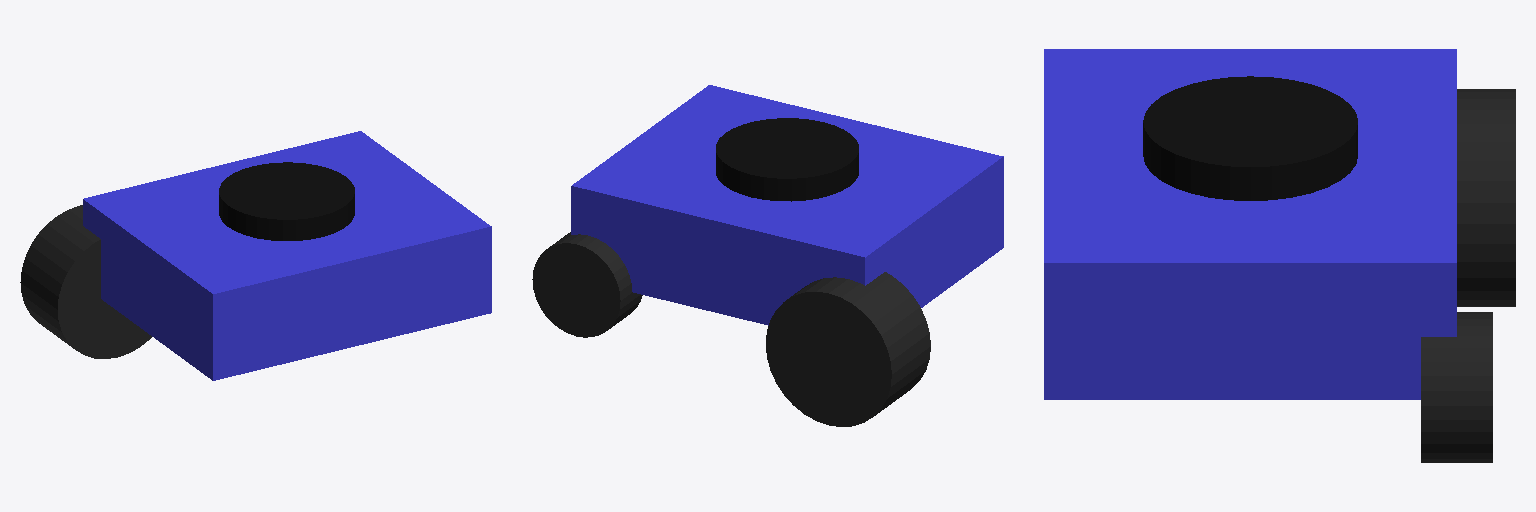
robot.urdf — evolved_robot:
<?xml version="1.0"?>
<robot name="evolved_robot">
  <material name="metal">
    <color rgba="0.7 0.7 0.7 1.0"/>
  </material>
  <material name="plastic">
    <color rgba="0.3 0.3 0.9 1.0"/>
  </material>
  <material name="rubber">
    <color rgba="0.1 0.1 0.1 1.0"/>
  </material>
  <material name="red">
    <color rgba="1.0 0.0 0.0 1.0"/>
  </material>
  <material name="wheel_material">
    <color rgba="0.2 0.2 0.2 1.0"/>
  </material>
  <link name="base_link">
    <visual>
      <geometry><box size="0.34411303922620823 0.27981552353627326 0.10256335374591175"/></geometry>
      <material name="plastic"/>
    </visual>
    <collision>
      <geometry><box size="0.34411303922620823 0.27981552353627326 0.10256335374591175"/></geometry>
    </collision>
    <inertial>
      <mass value="5.0"/>
      <inertia ixx="0.07401330728623977" ixy="0" ixz="0" 
               iyy="0.10744418774758913" iyz="0" 
               izz="0.16392542581448052"/>
    </inertial>
  </link>
  <link name="link1">
    <visual>
      <geometry>
        <cylinder radius="0.051554381537950625" length="0.04828264802290038"/>
      </geometry>
      <material name="wheel_material"/>
    </visual>
    <collision>
      <geometry>
        <cylinder radius="0.051554381537950625" length="0.04828264802290038"/>
      </geometry>
    </collision>
    <inertial>
      <mass value="1.0"/>
      <inertia ixx="0.00085873140561542" ixy="0" ixz="0" 
               iyy="0.00085873140561542" iyz="0" 
               izz="0.0013289271278802922"/>
    </inertial>
  </link>
  <joint name="joint1" type="continuous">
    <parent link="base_link"/>
    <child link="link1"/>
    <origin xyz="0.15205651961310412 0.13990776176813663 -0.05128167687295587" rpy="1.5708 0 0"/>
    <axis xyz="0 0 1"/>
    <dynamics damping="0.6661406666244551" friction="0.1"/>
  </joint>
  <link name="link2">
    <visual>
      <geometry><cylinder radius="0.0729829788216498" length="0.050752840492383"/></geometry>
      <material name="rubber"/>
    </visual>
    <collision>
      <geometry><cylinder radius="0.0729829788216498" length="0.050752840492383"/></geometry>
    </collision>
    <inertial>
      <mass value="0.5"/>
      <inertia ixx="0.0015462830342574516" ixy="0" ixz="0" 
               iyy="0.0015462830342574516" iyz="0" 
               izz="0.002663257598840691"/>
    </inertial>
  </link>
  <joint name="joint2" type="revolute">
    <parent link="base_link"/>
    <child link="link2"/>
    <origin xyz="0 0 0.05128167687295587" rpy="0 0 0"/>
    <axis xyz="0.0 0.6867904345195073 -0.726855487048496"/>
    <dynamics damping="0.46869221797893834" friction="0.1"/>
    <limit lower="-1.3571484268149911" upper="1.253268333753351" effort="100" velocity="100"/>
  </joint>
  <link name="link3">
    <visual>
      <geometry>
        <cylinder radius="0.07388801847784493" length="0.07935625141699179"/>
      </geometry>
      <material name="wheel_material"/>
    </visual>
    <collision>
      <geometry>
        <cylinder radius="0.07388801847784493" length="0.07935625141699179"/>
      </geometry>
    </collision>
    <inertial>
      <mass value="1.0"/>
      <inertia ixx="0.0018896443718919896" ixy="0" ixz="0" 
               iyy="0.0018896443718919896" iyz="0" 
               izz="0.002729719637291177"/>
    </inertial>
  </link>
  <joint name="joint3" type="continuous">
    <parent link="base_link"/>
    <child link="link3"/>
    <origin xyz="-0.15205651961310412 0.13990776176813663 -0.05128167687295587" rpy="1.5708 0 0"/>
    <axis xyz="0 0 1"/>
    <dynamics damping="0.784606199382442" friction="0.1"/>
  </joint>
</robot>

--- What the picture shows (computed from the rendered views, not written in the file) ---
The picture shows the robot from 3 angles, left to right: view 1: azimuth 30°, elevation 25°; view 2: azimuth 150°, elevation 25°; view 3: azimuth 270°, elevation 25°; orthographic projection.
Robot: evolved_robot — 4 links, 3 joints (1 revolute, 2 continuous); root link base_link; default pose: every joint at zero.
Visible links, largest first — view 1: base_link, link3, link2; view 2: base_link, link3, link2, link1; view 3: base_link, link2, link3, link1.
Boxes of the visible links, left/top/right/bottom form: base_link: left=83, top=131, right=491, bottom=380; link3: left=20, top=205, right=151, bottom=358; link2: left=219, top=162, right=354, bottom=240; base_link: left=571, top=85, right=1003, bottom=325; link3: left=766, top=272, right=930, bottom=426; link2: left=716, top=118, right=858, bottom=201; link1: left=532, top=232, right=642, bottom=337; base_link: left=1044, top=49, right=1456, bottom=399; link2: left=1143, top=76, right=1357, bottom=200; link3: left=1457, top=89, right=1515, bottom=306; link1: left=1421, top=312, right=1492, bottom=462.
Bounding box of the posed robot: 0.4296 × 0.3195 × 0.2018 m (x, y, z).
Geometry: primitives only (box / cylinder / sphere), no mesh files.